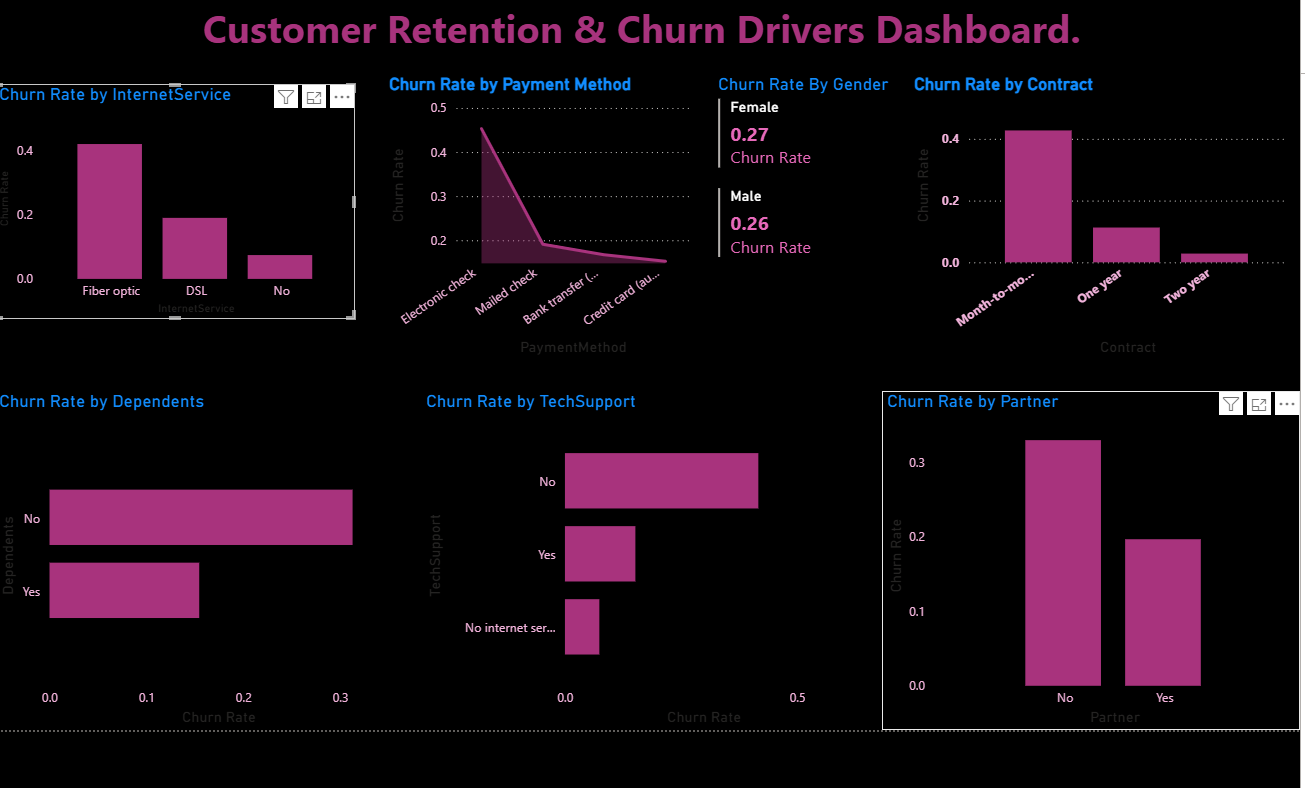

The page's visual inventory and layout, read from the dashboard file:
{"tool":"powerbi","page":{"name":"Page 2","canvas":[1280,720],"ordinal":1},"visuals":[{"type":"areaChart","title":"Churn Rate by Payment Method","fields":{"Category":["Telco.PaymentMethod"],"Y":["Telco.Churn Rate"]},"box":[389.1,81.7,302.5,278.2],"z":0},{"type":"barChart","fields":{"Category":["Telco.TechSupport"],"Y":["Telco.Churn Rate"]},"box":[425,390,424.1,329.7],"z":1000},{"type":"clusteredBarChart","fields":{"Category":["Telco.Dependents"],"Y":["Telco.Churn Rate"]},"box":[9.7,390,396.8,329.7],"z":2000},{"type":"multiRowCard","title":"Churn Rate By Gender","fields":{"Values":["Telco.gender","Telco.Churn Rate"]},"box":[709.1,81.7,183.8,271.4],"z":3000},{"type":"columnChart","fields":{"Y":["Telco.Churn Rate"],"Category":["Telco.Contract"]},"box":[899.7,81.7,372.5,278.2],"z":4000},{"type":"textbox","box":[182.9,6.8,914.3,74.9],"z":5000},{"type":"columnChart","fields":{"Y":["Telco.Churn Rate"],"Category":["Telco.Partner"]},"box":[873.4,390,406.6,329.7],"z":6000},{"type":"columnChart","fields":{"Category":["Telco.InternetService"],"Y":["Telco.Churn Rate"]},"box":[9.7,91.4,351.1,228.6],"z":7000}]}

Visuals, with their boxes on the page's 1280x720 design canvas (x1, y1, x2, y2). These are canvas units, not pixel positions in the 1305x788 screenshot, which may show the page scaled, cropped or inside an application window:
"Churn Rate by Payment Method" areaChart: x1=389, y1=82, x2=692, y2=360
barChart - Telco.TechSupport x Telco.Churn Rate: x1=425, y1=390, x2=849, y2=720
clusteredBarChart - Telco.Dependents x Telco.Churn Rate: x1=10, y1=390, x2=406, y2=720
"Churn Rate By Gender" multiRowCard: x1=709, y1=82, x2=893, y2=353
columnChart - Telco.Churn Rate x Telco.Contract: x1=900, y1=82, x2=1272, y2=360
textbox: x1=183, y1=7, x2=1097, y2=82
columnChart - Telco.Churn Rate x Telco.Partner: x1=873, y1=390, x2=1280, y2=720
columnChart - Telco.InternetService x Telco.Churn Rate: x1=10, y1=91, x2=361, y2=320
